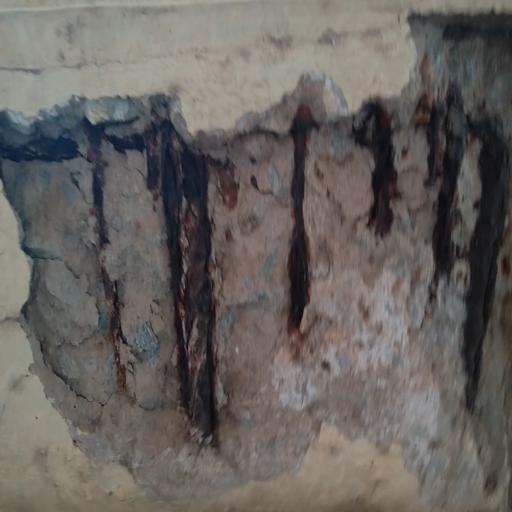spalling: (0, 79, 512, 461)
